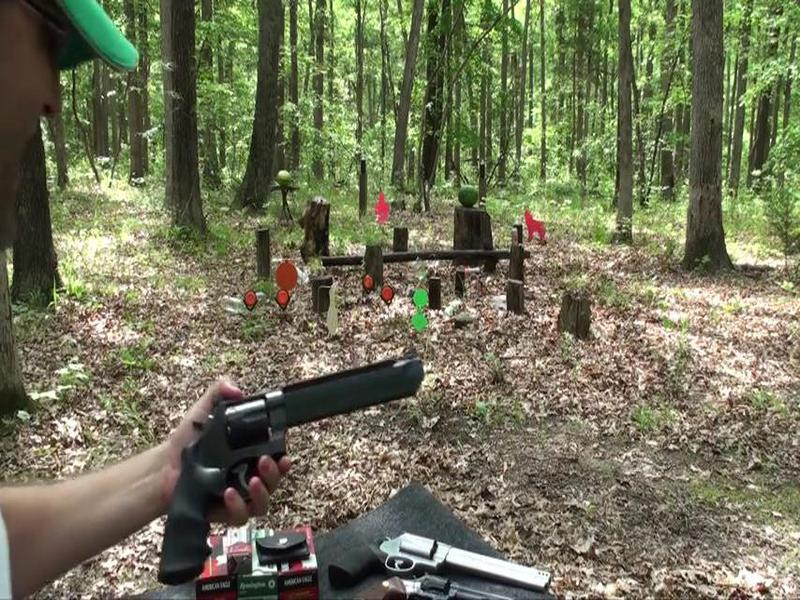Revolver: (125, 346, 442, 573)
